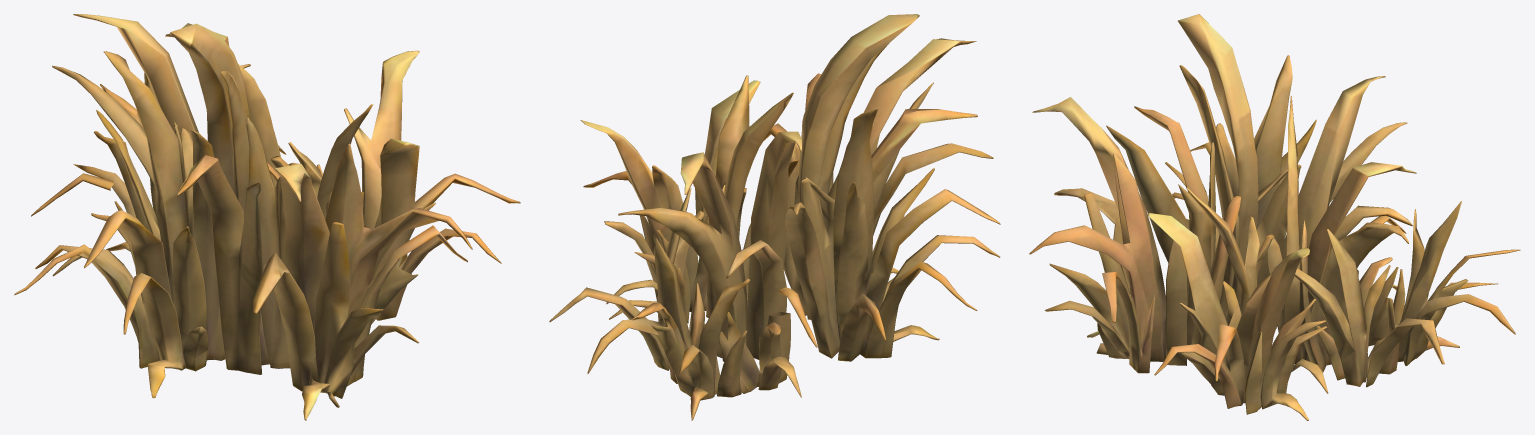
The model's file is grass_tuft.glb.
3 renders of one model, left to right at view 1: azimuth 30°, elevation 25°; view 2: azimuth 150°, elevation 25°; view 3: azimuth 270°, elevation 25°, orthographic. The views are drawn at different scales.
Visible parts, largest first — view 1: tripo_node_b8a7357b-6ead-4a39-b86a-f35f6a9eebc8; view 2: tripo_node_b8a7357b-6ead-4a39-b86a-f35f6a9eebc8; view 3: tripo_node_b8a7357b-6ead-4a39-b86a-f35f6a9eebc8.
Boxes of the visible parts, left/top/right/bottom form: tripo_node_b8a7357b-6ead-4a39-b86a-f35f6a9eebc8: left=14, top=14, right=520, bottom=420; tripo_node_b8a7357b-6ead-4a39-b86a-f35f6a9eebc8: left=549, top=14, right=1000, bottom=420; tripo_node_b8a7357b-6ead-4a39-b86a-f35f6a9eebc8: left=1029, top=14, right=1520, bottom=420.
Bounding box in the file's own units: 0.9256 × 0.6673 × 1.
Materials: 1 (1 with a texture image).
